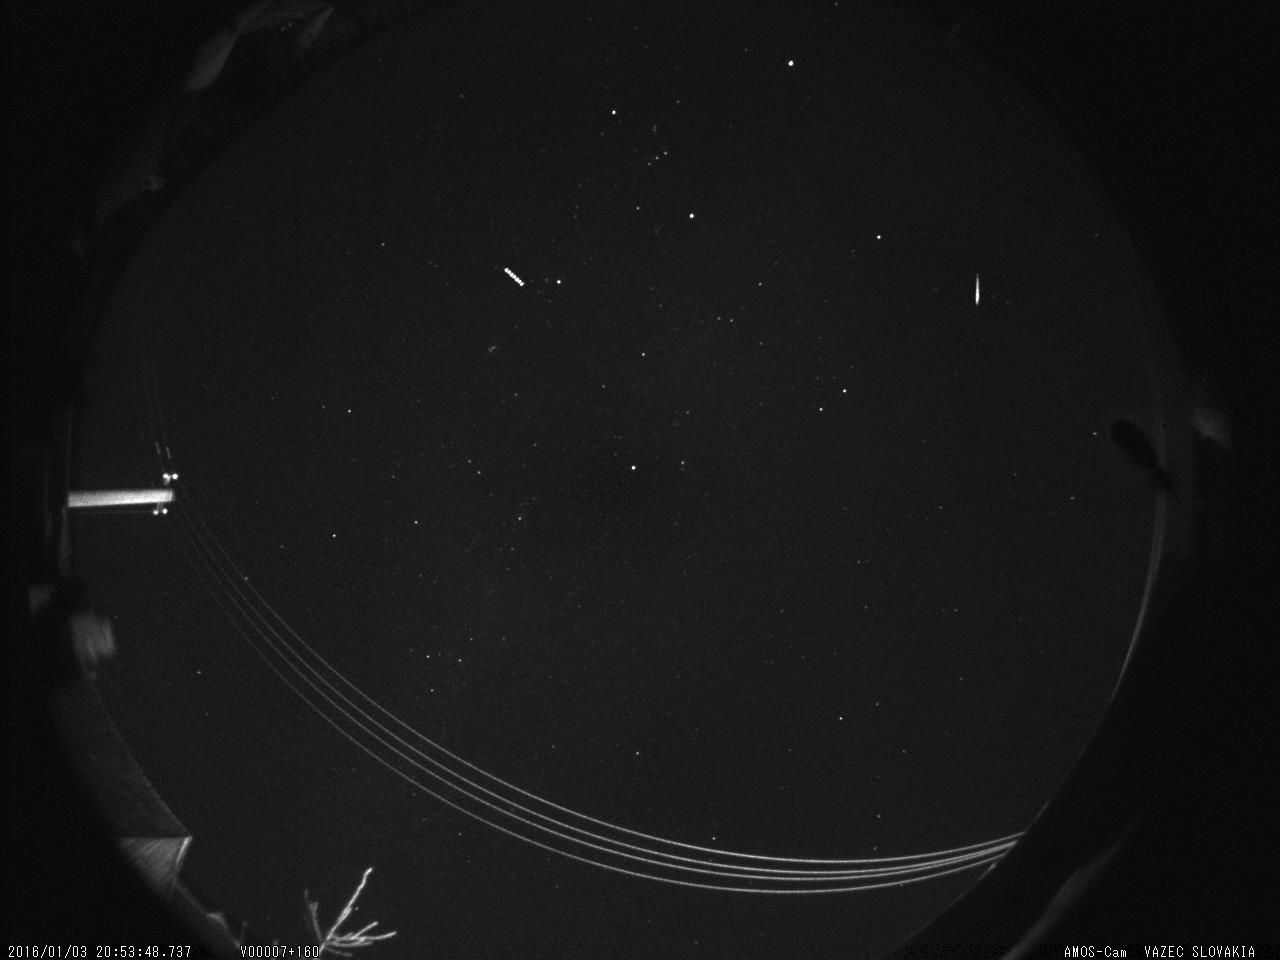meteor: (962, 267, 991, 314)
satelite: (495, 261, 529, 293)
